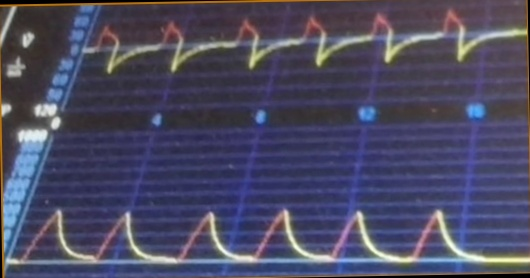Normal Flow: (88, 6, 527, 89)
Normal Volume: (14, 194, 530, 271)
